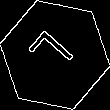L_SE: (27, 26, 83, 84)
